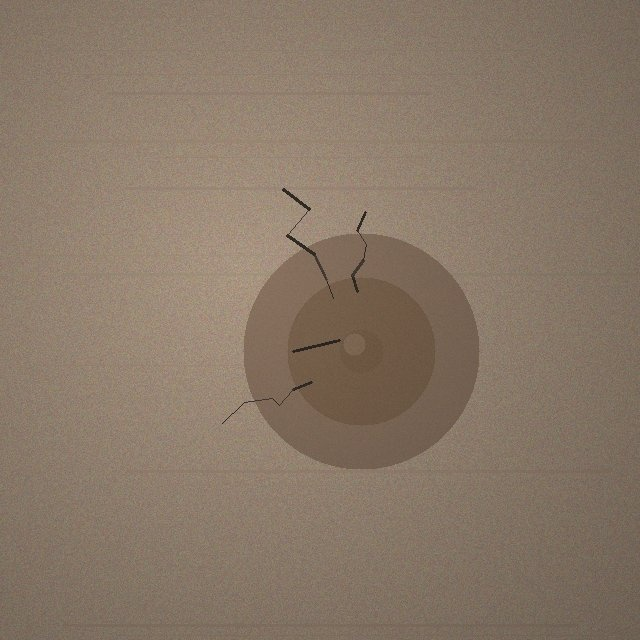crack: (243, 233, 479, 469)
